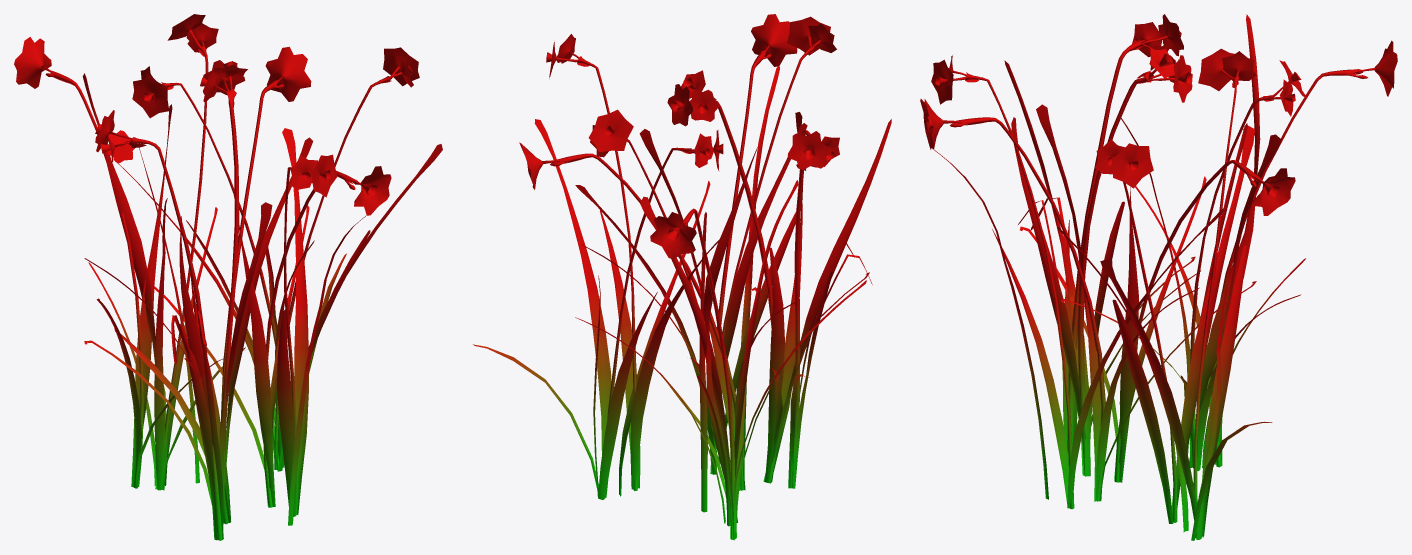
File: Rush Daffodil_LOD2_Var3_wftgfjaia.fbx
3 views of the same model, side by side, from view 1: azimuth 30°, elevation 25°; view 2: azimuth 150°, elevation 25°; view 3: azimuth 270°, elevation 25° (orthographic). The views are drawn at different scales.
Parts seen in each view (by area): view 1: _t2rn_var3_LOD2; view 2: _t2rn_var3_LOD2; view 3: _t2rn_var3_LOD2.
Boxes of the visible parts, x1,y1,x2,y2 form: _t2rn_var3_LOD2: (14, 14, 442, 540); _t2rn_var3_LOD2: (473, 14, 891, 540); _t2rn_var3_LOD2: (920, 14, 1397, 540).
Size of the model in its own units: 29.31 by 35.91 by 34.29.
